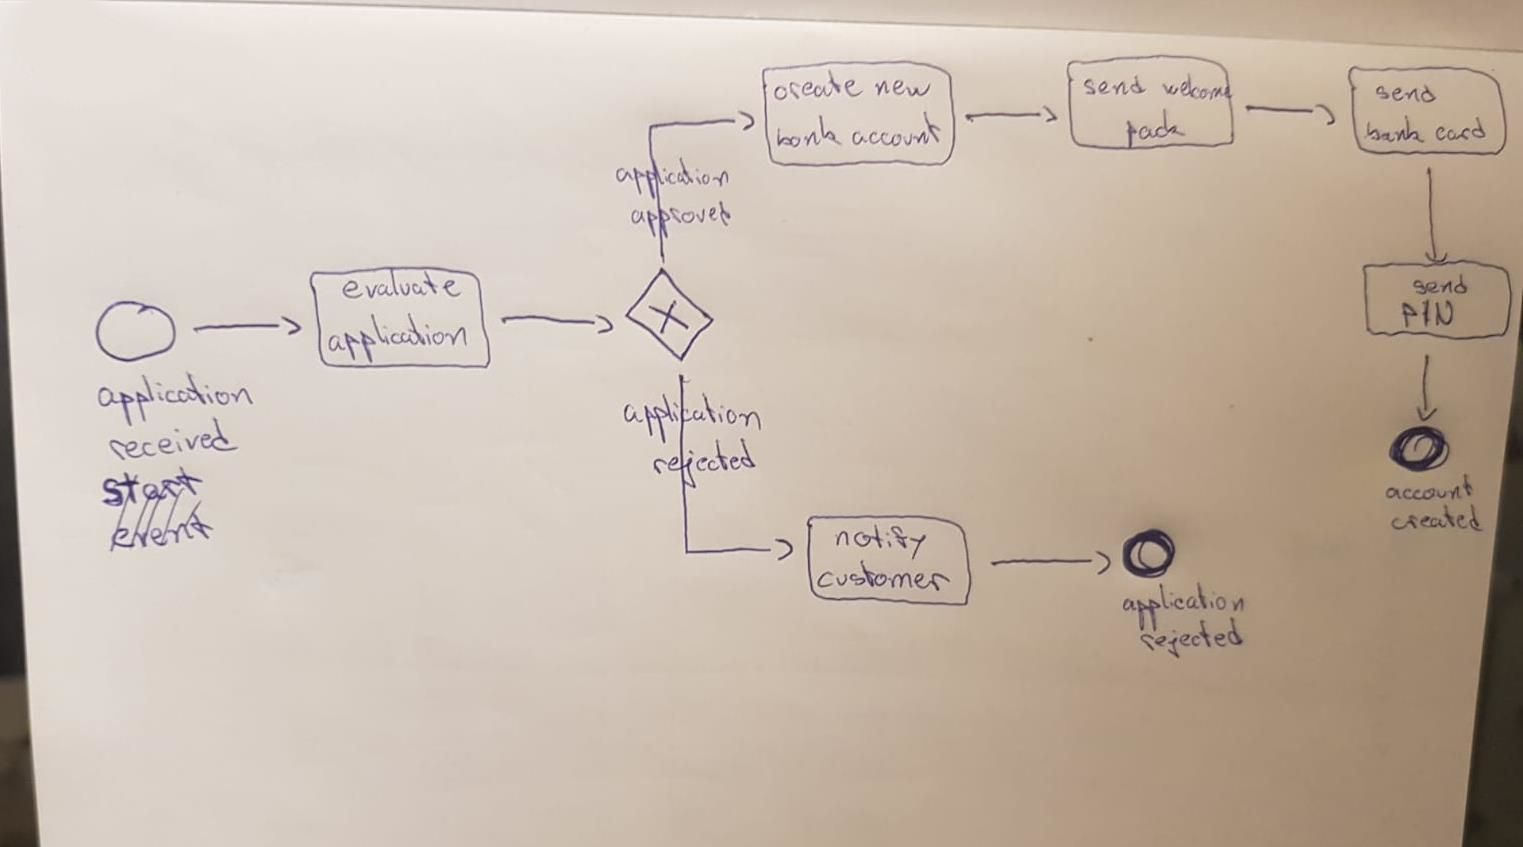PIN: (1396, 296, 1457, 332)
account: (846, 110, 947, 155), (1377, 473, 1479, 505)
application: (92, 365, 267, 426), (614, 384, 769, 442), (322, 310, 474, 364), (1114, 580, 1252, 624), (613, 159, 736, 195)
approved: (619, 198, 742, 241)
bank: (774, 114, 845, 158), (1365, 119, 1429, 146)
card: (1431, 116, 1486, 145)
create: (773, 64, 862, 110)
created: (1387, 503, 1486, 539)
customer: (818, 561, 951, 594)
evaluate: (339, 266, 469, 310)
new: (869, 64, 936, 120)
notify: (831, 521, 926, 560)
pack: (1120, 107, 1184, 152)
received: (103, 423, 238, 471)
rejected: (1132, 618, 1252, 669), (648, 440, 759, 488)
send: (1372, 74, 1441, 114), (1074, 70, 1153, 103), (1407, 270, 1477, 299)
welcome: (1159, 69, 1237, 108)
